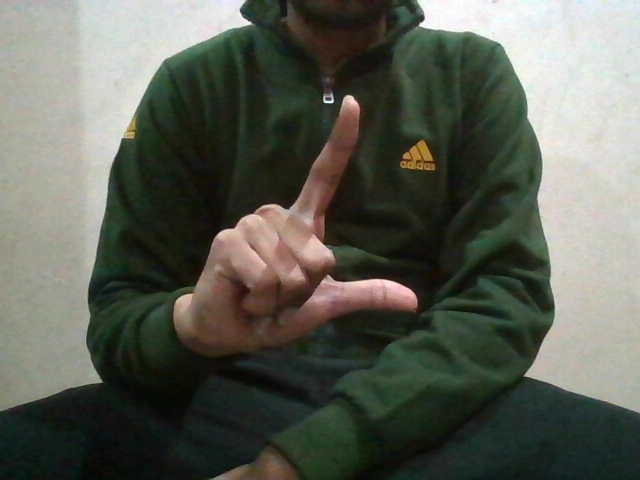L: (193, 92, 421, 327)
